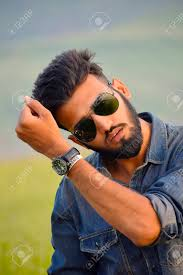Indian_Male: (62, 70, 136, 170)
